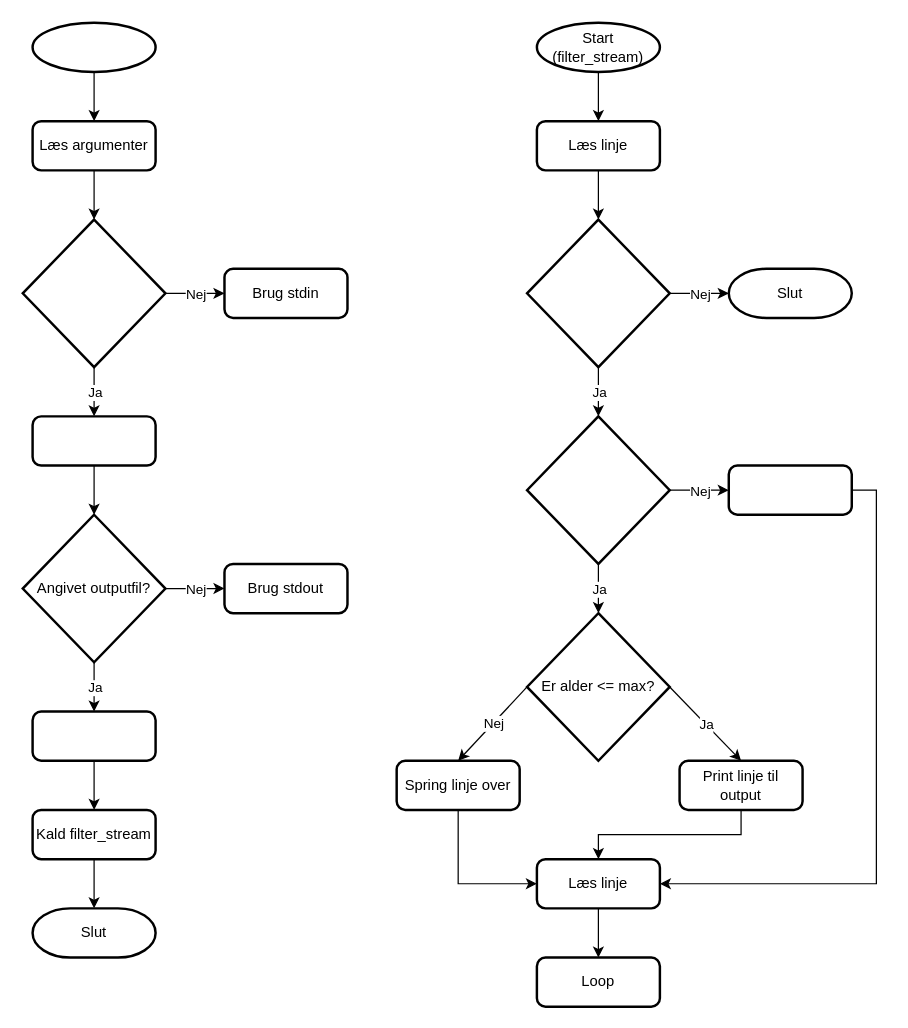
The diagram is 908 pixels wide and 1028 high, and some of its shapes have lost their labels. Here are the shapes that lost their labels. From the top down, the box of each, then its label:
(31, 21, 156, 73): Start (main)
(21, 218, 166, 368): Angivet inputfil?
(525, 218, 670, 368): Er der flere linjer?
(31, 415, 156, 466): Åbn inputfil
(525, 415, 670, 565): Er linjen gyldig?
(727, 464, 852, 515): Print fejlmeddelelse
(31, 710, 156, 761): Åbn outputfil
